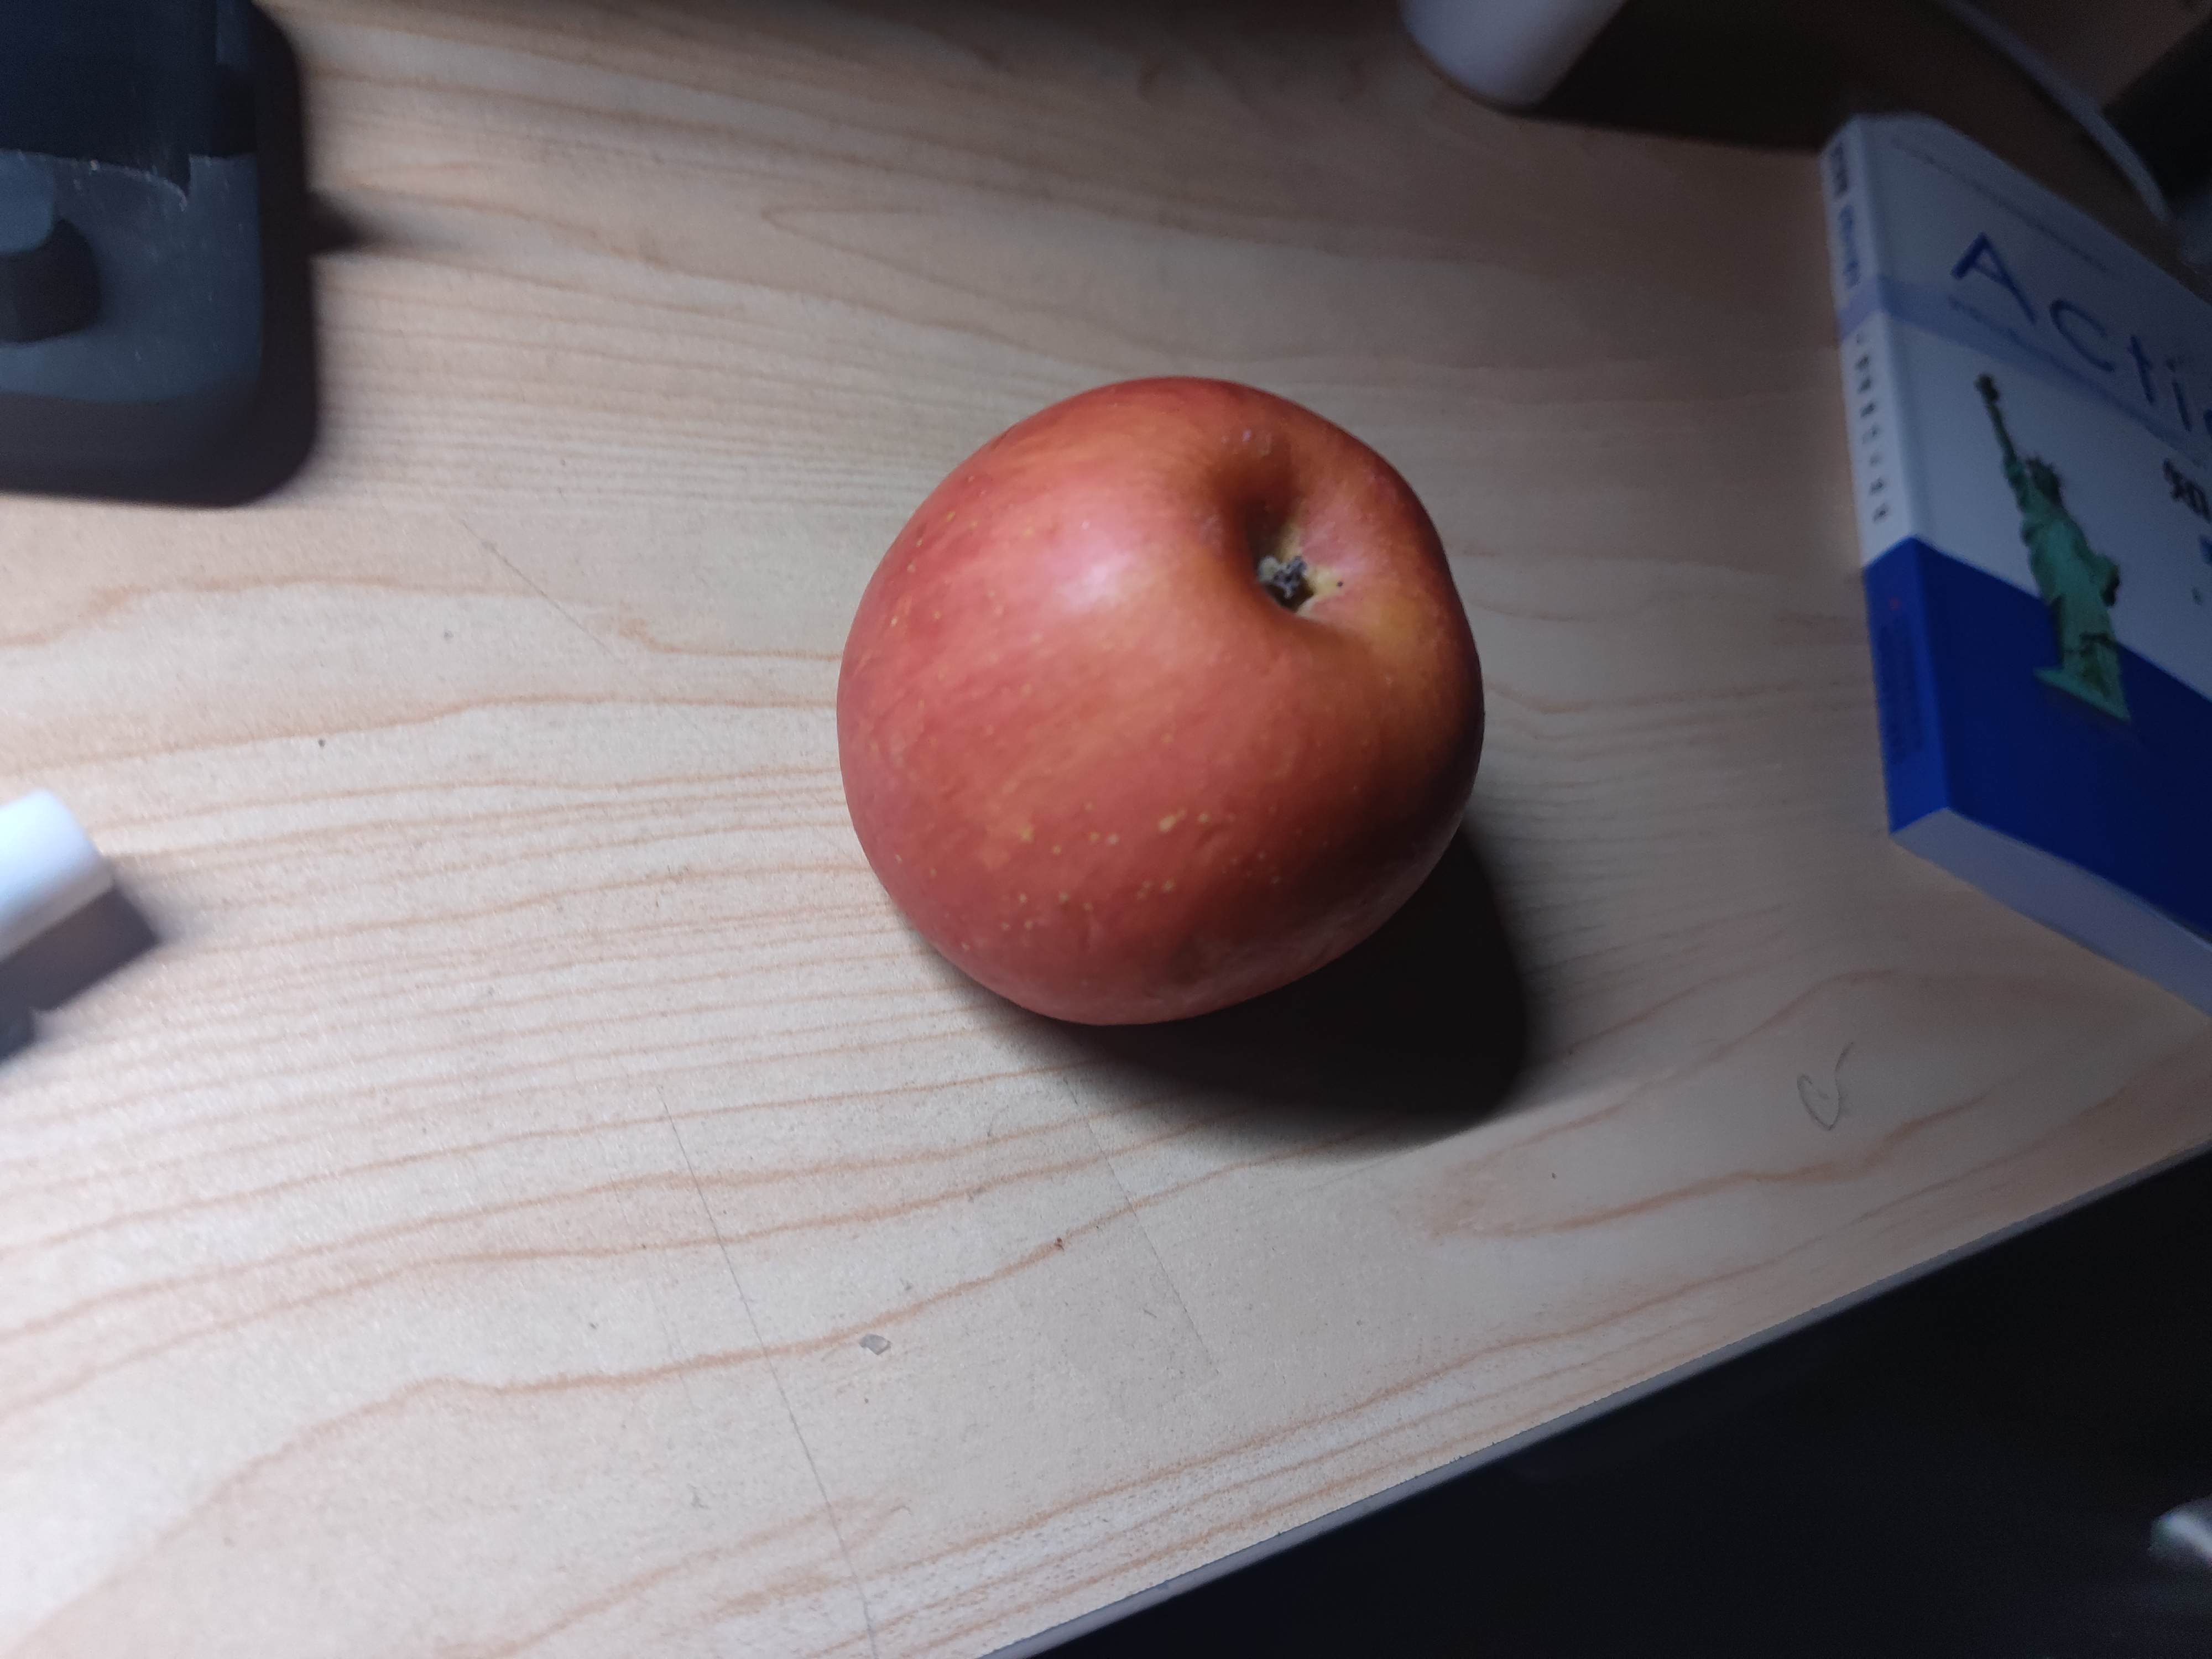apple: (833, 368, 1498, 1047)
